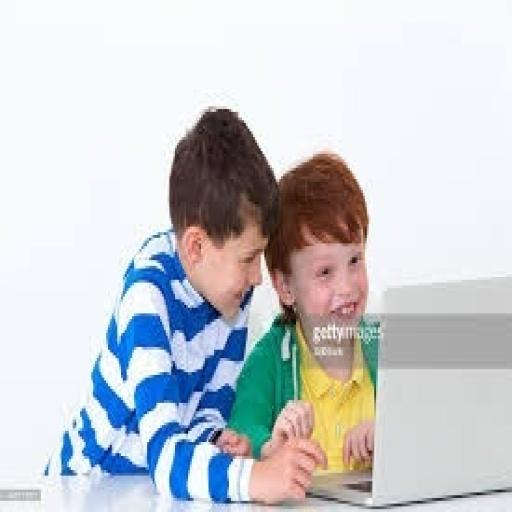using_laptop: (302, 274, 510, 509)
